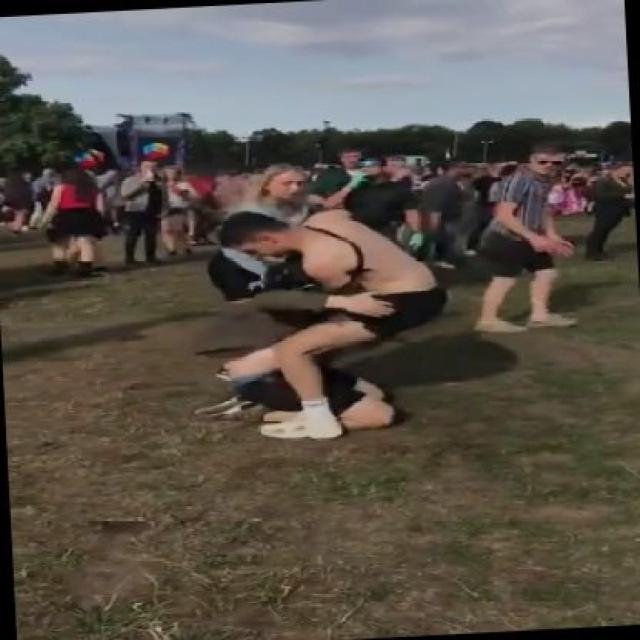fight: (171, 163, 439, 471)
